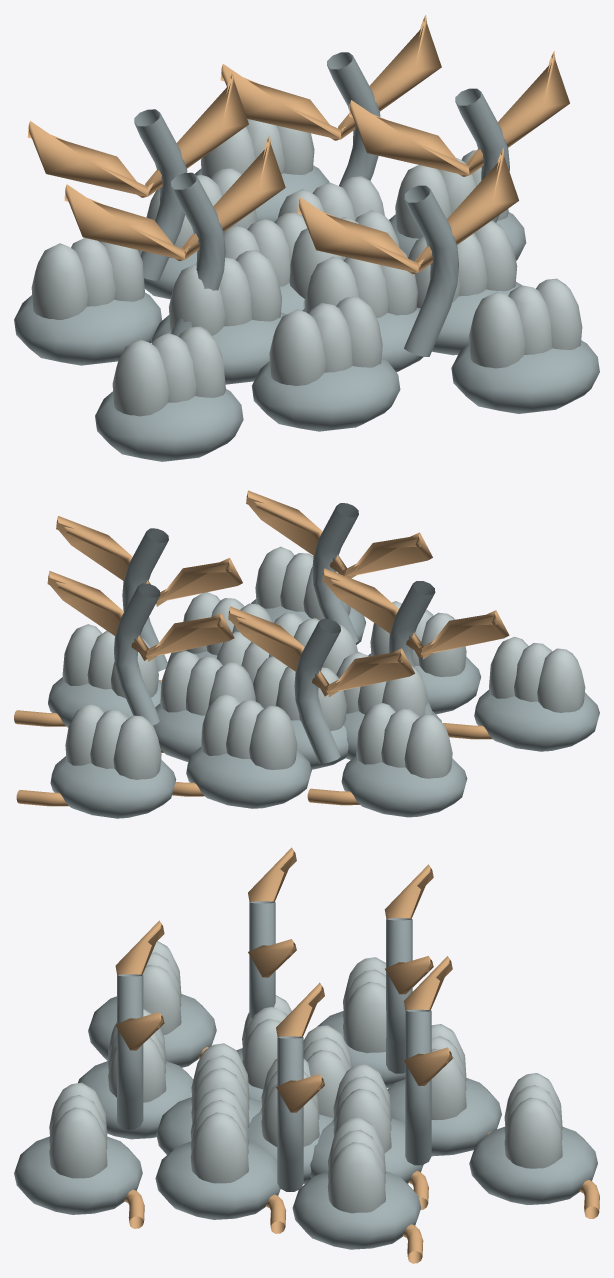
The model's file is bio_acid_mat_17_far.glb.
3 renders of one model, top to bottom at view 1: azimuth 30°, elevation 25°; view 2: azimuth 150°, elevation 25°; view 3: azimuth 270°, elevation 25°, orthographic. The views are drawn at different scales.
Parts seen in each view (by area): view 1: Reaction vesicle.021, Reaction vesicle.030, Reaction vesicle.036, Microbial cushion.010, Microbial cushion.007, Microbial cushion.012, Reaction vesicle.027, Secondary fan lobe.002, Secondary fan lobe.008, Secondary fan lobe, Secondary fan lobe.004, Microbial cushion.009 (+21 smaller); view 2: Reaction vesicle.036, Reaction vesicle.018, Reaction vesicle.027, Reaction vesicle.033, Microbial cushion.011, Microbial cushion.012, Microbial cushion.009, Microbial cushion.006, Secondary fan lobe.008, Secondary fan lobe.002, Secondary fan lobe.006, Secondary fan lobe.004 (+25 smaller); view 3: Microbial cushion.011, Microbial cushion.010, Microbial cushion.008, Microbial cushion.005, Reaction vesicle.030, Reaction vesicle.015, Reaction vesicle.033, Reaction vesicle.024, Microbial cushion.006, Reaction vesicle.027, Branching support, Branching support.003 (+26 smaller).
Part boxes in pixels (x1,y1,x2,y2): Reaction vesicle.021: (269, 296, 382, 385); Reaction vesicle.030: (469, 278, 582, 368); Reaction vesicle.036: (112, 326, 225, 416); Microbial cushion.010: (451, 340, 599, 413); Microbial cushion.007: (252, 358, 400, 431); Microbial cushion.012: (95, 389, 243, 461); Reaction vesicle.027: (31, 238, 144, 319); Secondary fan lobe.002: (27, 71, 248, 197); Secondary fan lobe.008: (64, 135, 285, 261); Secondary fan lobe: (349, 51, 569, 176); Secondary fan lobe.004: (298, 148, 518, 274); Microbial cushion.009: (14, 292, 162, 365); Reaction vesicle.036: (489, 637, 585, 712); Reaction vesicle.018: (201, 694, 297, 769); Reaction vesicle.027: (356, 702, 452, 778); Reaction vesicle.033: (65, 704, 161, 779); Microbial cushion.011: (50, 756, 176, 818); Microbial cushion.012: (474, 690, 599, 751); Microbial cushion.009: (341, 755, 467, 817); Microbial cushion.006: (186, 747, 311, 808); Secondary fan lobe.008: (322, 568, 509, 659); Secondary fan lobe.002: (228, 606, 414, 697); Secondary fan lobe.006: (47, 571, 234, 661); Secondary fan lobe.004: (246, 490, 432, 578); Microbial cushion.011: (469, 1126, 597, 1204); Microbial cushion.010: (14, 1136, 142, 1214); Microbial cushion.008: (292, 1171, 421, 1249); Microbial cushion.005: (155, 1141, 280, 1219); Reaction vesicle.030: (49, 1082, 107, 1178); Reaction vesicle.015: (190, 1087, 248, 1183); Reaction vesicle.033: (504, 1073, 562, 1168); Reaction vesicle.024: (327, 1117, 385, 1213); Microbial cushion.006: (387, 1078, 501, 1156); Reaction vesicle.027: (343, 957, 386, 1053); Branching support: (277, 1036, 303, 1191); Branching support.003: (405, 1009, 431, 1165).
Size of the model in its own units: 1.98 by 0.7549 by 2.
